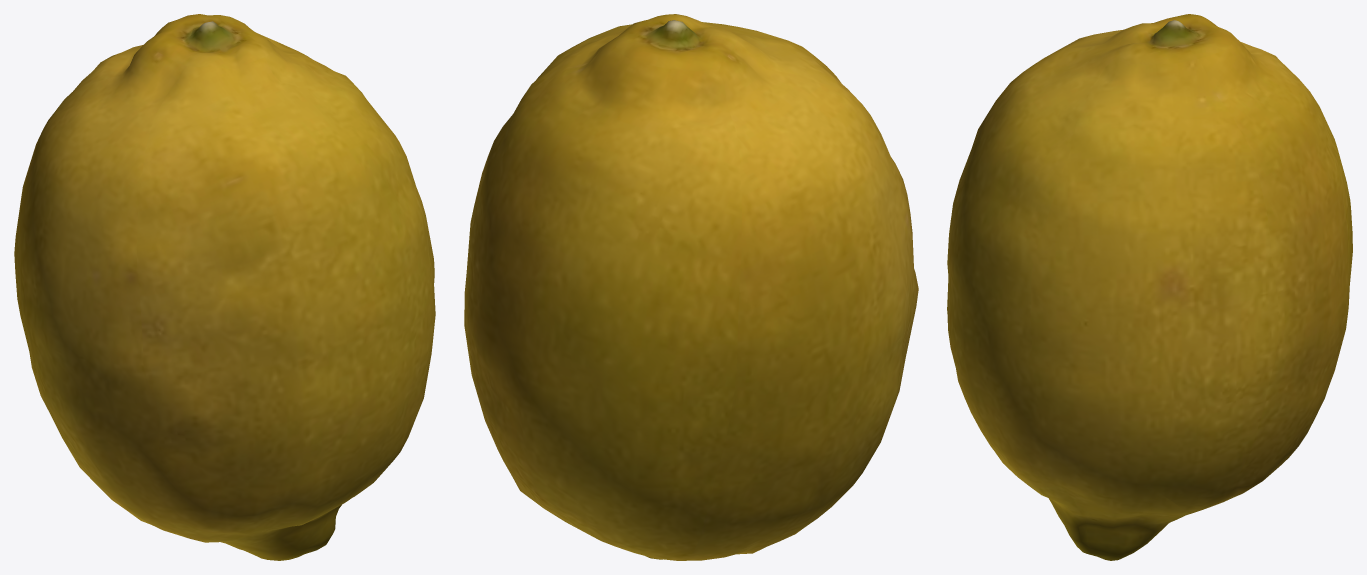
The model's file is lemon.glb.
3 views of the same model, side by side, from view 1: azimuth 30°, elevation 25°; view 2: azimuth 150°, elevation 25°; view 3: azimuth 270°, elevation 25° (orthographic). The views are drawn at different scales.
Visible parts, largest first — view 1: lemon; view 2: lemon; view 3: lemon.
Boxes of the visible parts, left/top/right/bottom form: lemon: left=14, top=14, right=435, bottom=560; lemon: left=464, top=14, right=918, bottom=560; lemon: left=947, top=14, right=1352, bottom=560.
Size of the model in its own units: 0.0687 by 0.0954 by 0.0683.
Materials: 1 (1 with a texture image).
